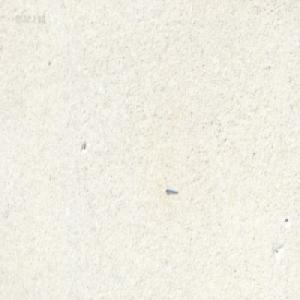Nail: (165, 185, 178, 193)
